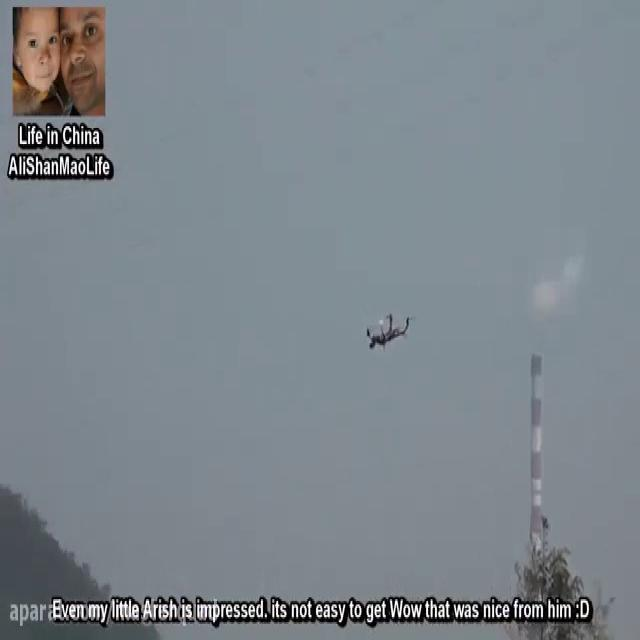drone: (363, 306, 418, 352)
